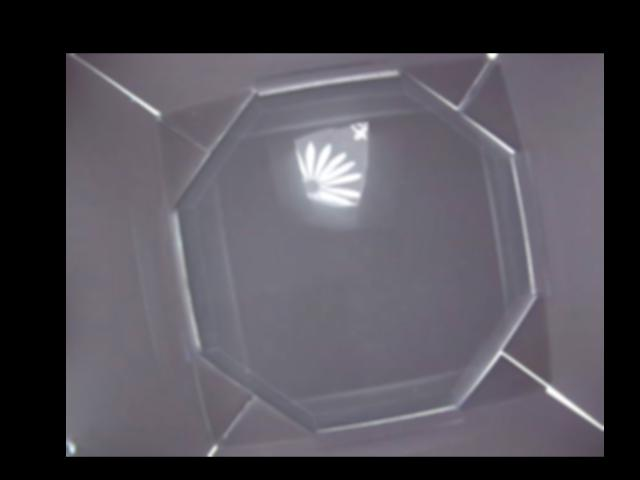China: (293, 122, 368, 206)
